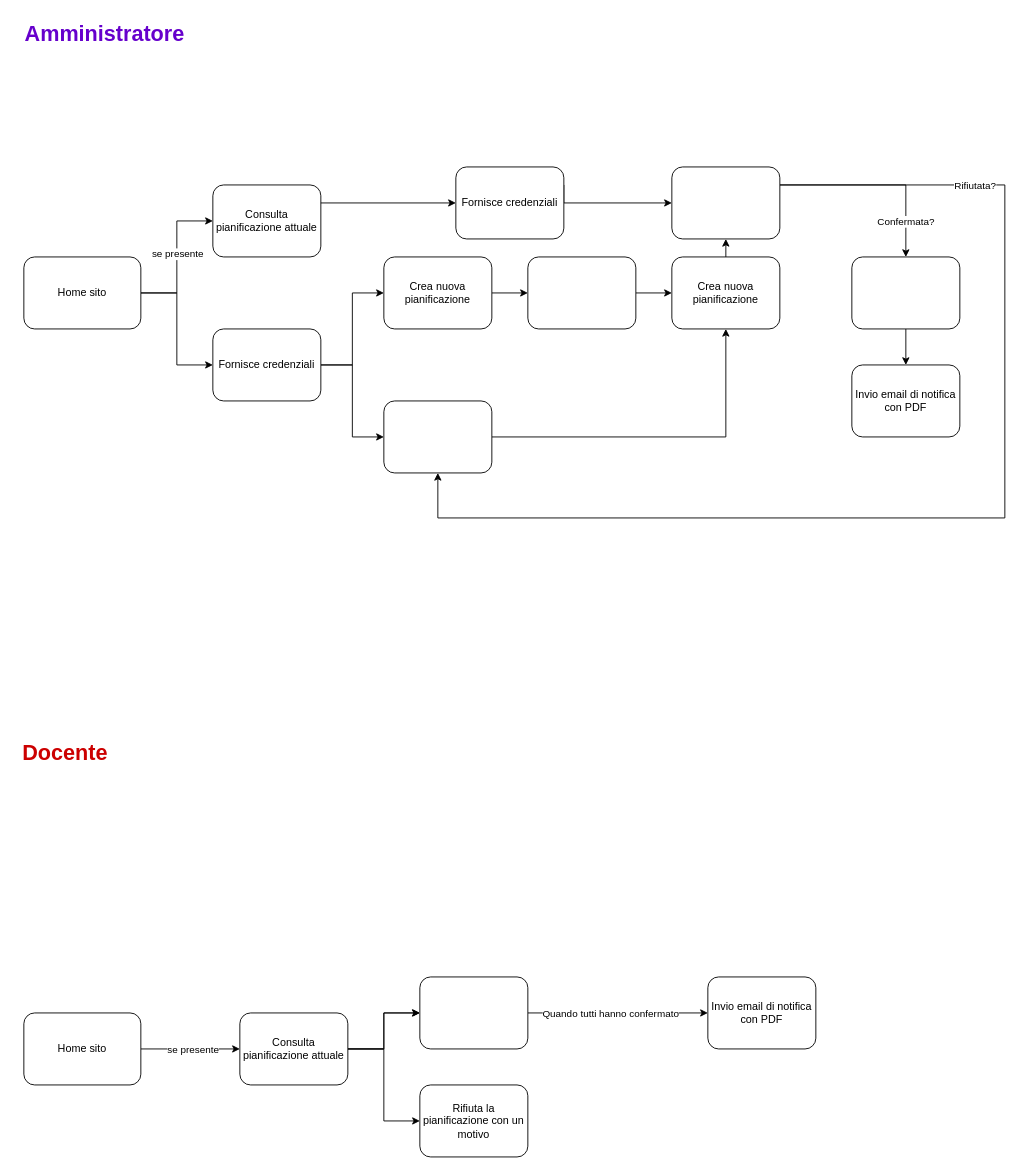
Image size: 1028x1173. Some labels were removed from this diagram. The centre of each missing label's shape, as x and y in pixels:
"Conferma pianificazione finale" goes at (x=905, y=292).
"Conferma pianificazione per se" goes at (x=473, y=1012).
"Consulta conferme" goes at (x=725, y=202).
"Modifica parametri pianificazione" goes at (x=437, y=436).
"Wizzard inserimento dati" goes at (x=581, y=292).
